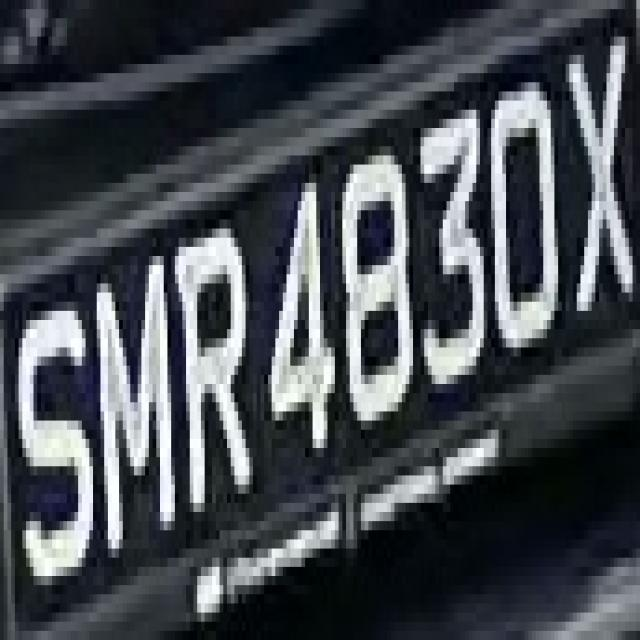0: (480, 64, 562, 384)
3: (405, 91, 495, 430)
4: (249, 128, 335, 466)
8: (335, 128, 413, 448)
M: (93, 247, 175, 567)
R: (164, 210, 253, 549)
S: (11, 274, 97, 613)
X: (550, 9, 640, 329)
